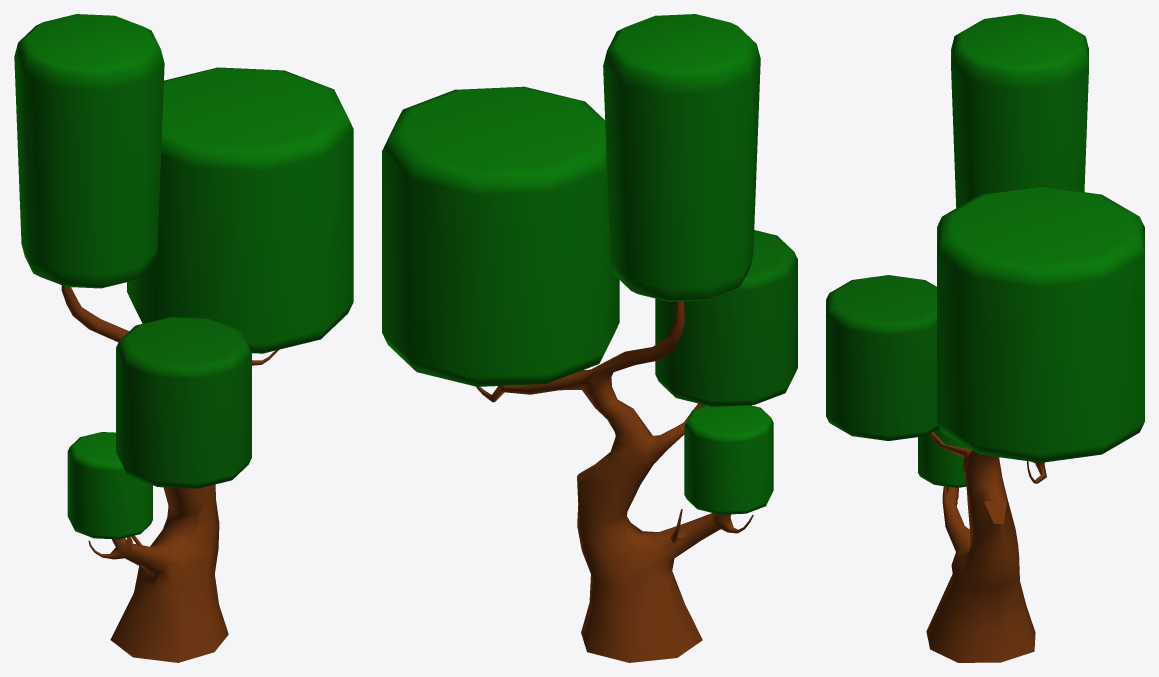
The model's file is SM_Tree_P_6.fbx.
3 renders of one model, left to right at view 1: azimuth 30°, elevation 25°; view 2: azimuth 150°, elevation 25°; view 3: azimuth 270°, elevation 25°, orthographic. The views are drawn at different scales.
Parts seen in each view (by area): view 1: SM_Tree_P_6; view 2: SM_Tree_P_6; view 3: SM_Tree_P_6.
Boxes of the visible parts, x1=… form: SM_Tree_P_6: x1=14, y1=14, x2=353, y2=662; SM_Tree_P_6: x1=382, y1=14, x2=797, y2=662; SM_Tree_P_6: x1=826, y1=14, x2=1144, y2=662.
Bounding box in the file's own units: 785 × 1376 × 693.
